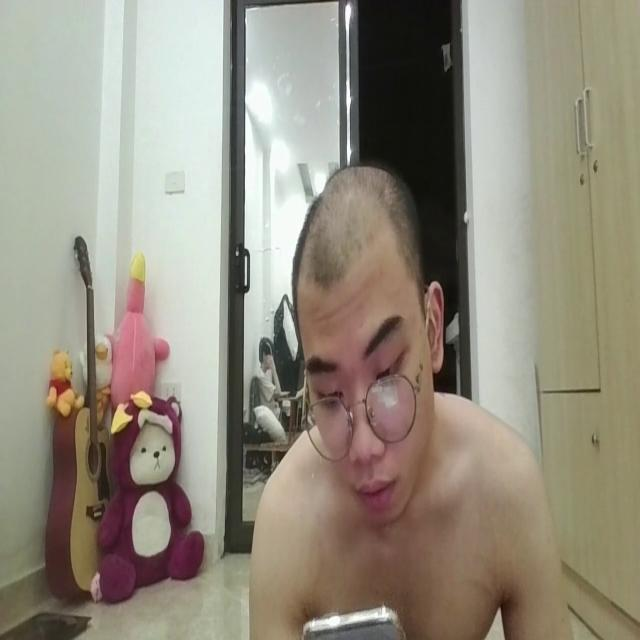student: (236, 161, 580, 640)
